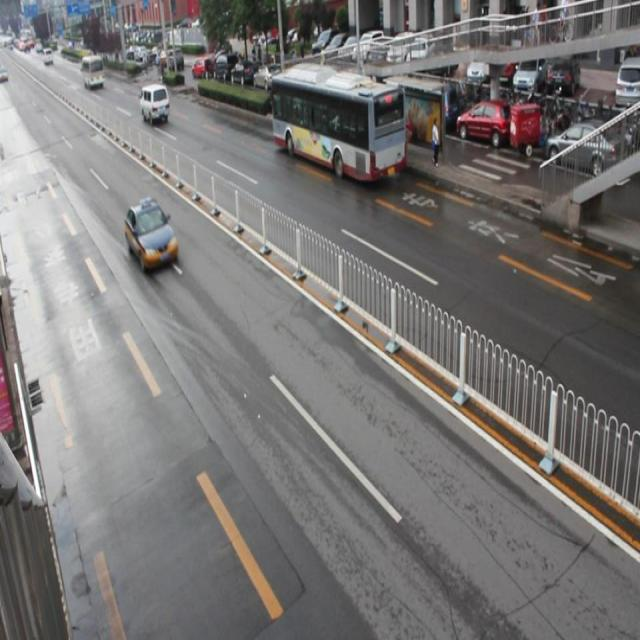car: (125, 200, 178, 270)
truck: (140, 84, 170, 122)
van: (271, 75, 405, 179)
